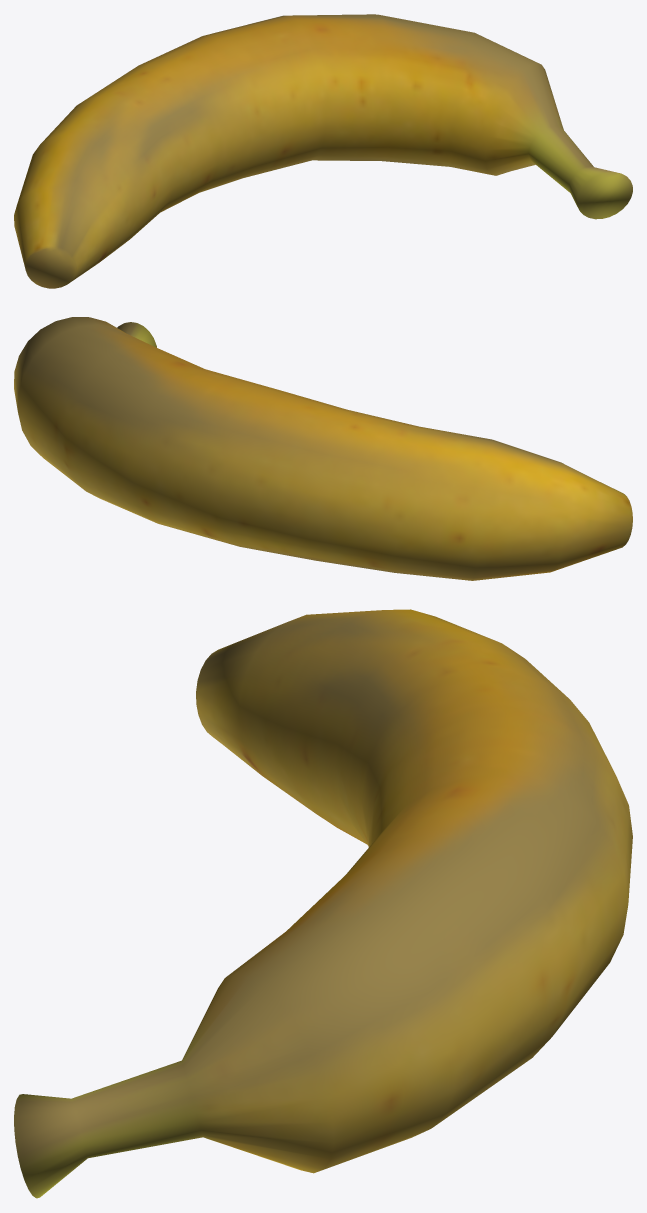
Rendered from SM_Banana_01.fbx.
3 renders of one model, top to bottom at view 1: azimuth 30°, elevation 25°; view 2: azimuth 150°, elevation 25°; view 3: azimuth 270°, elevation 25°, orthographic. The views are drawn at different scales.
Parts seen in each view (by area): view 1: SM_Banana_01_LOD0; view 2: SM_Banana_01_LOD0; view 3: SM_Banana_01_LOD0.
Boxes of the visible parts, bbox=[...] form: SM_Banana_01_LOD0: bbox=[14, 14, 632, 288]; SM_Banana_01_LOD0: bbox=[14, 317, 632, 580]; SM_Banana_01_LOD0: bbox=[14, 609, 632, 1198].
Size of the model in its own units: 24.84 by 13.73 by 6.45.
